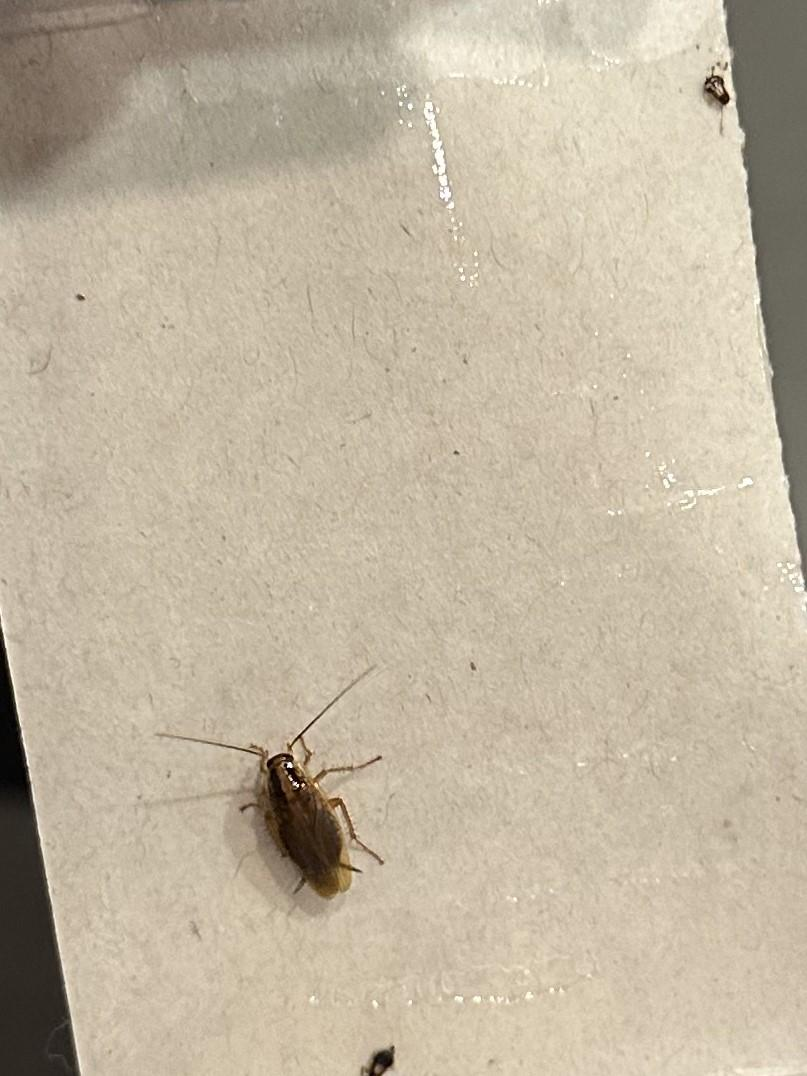cockroach: (150, 659, 393, 908), (670, 46, 740, 160)
